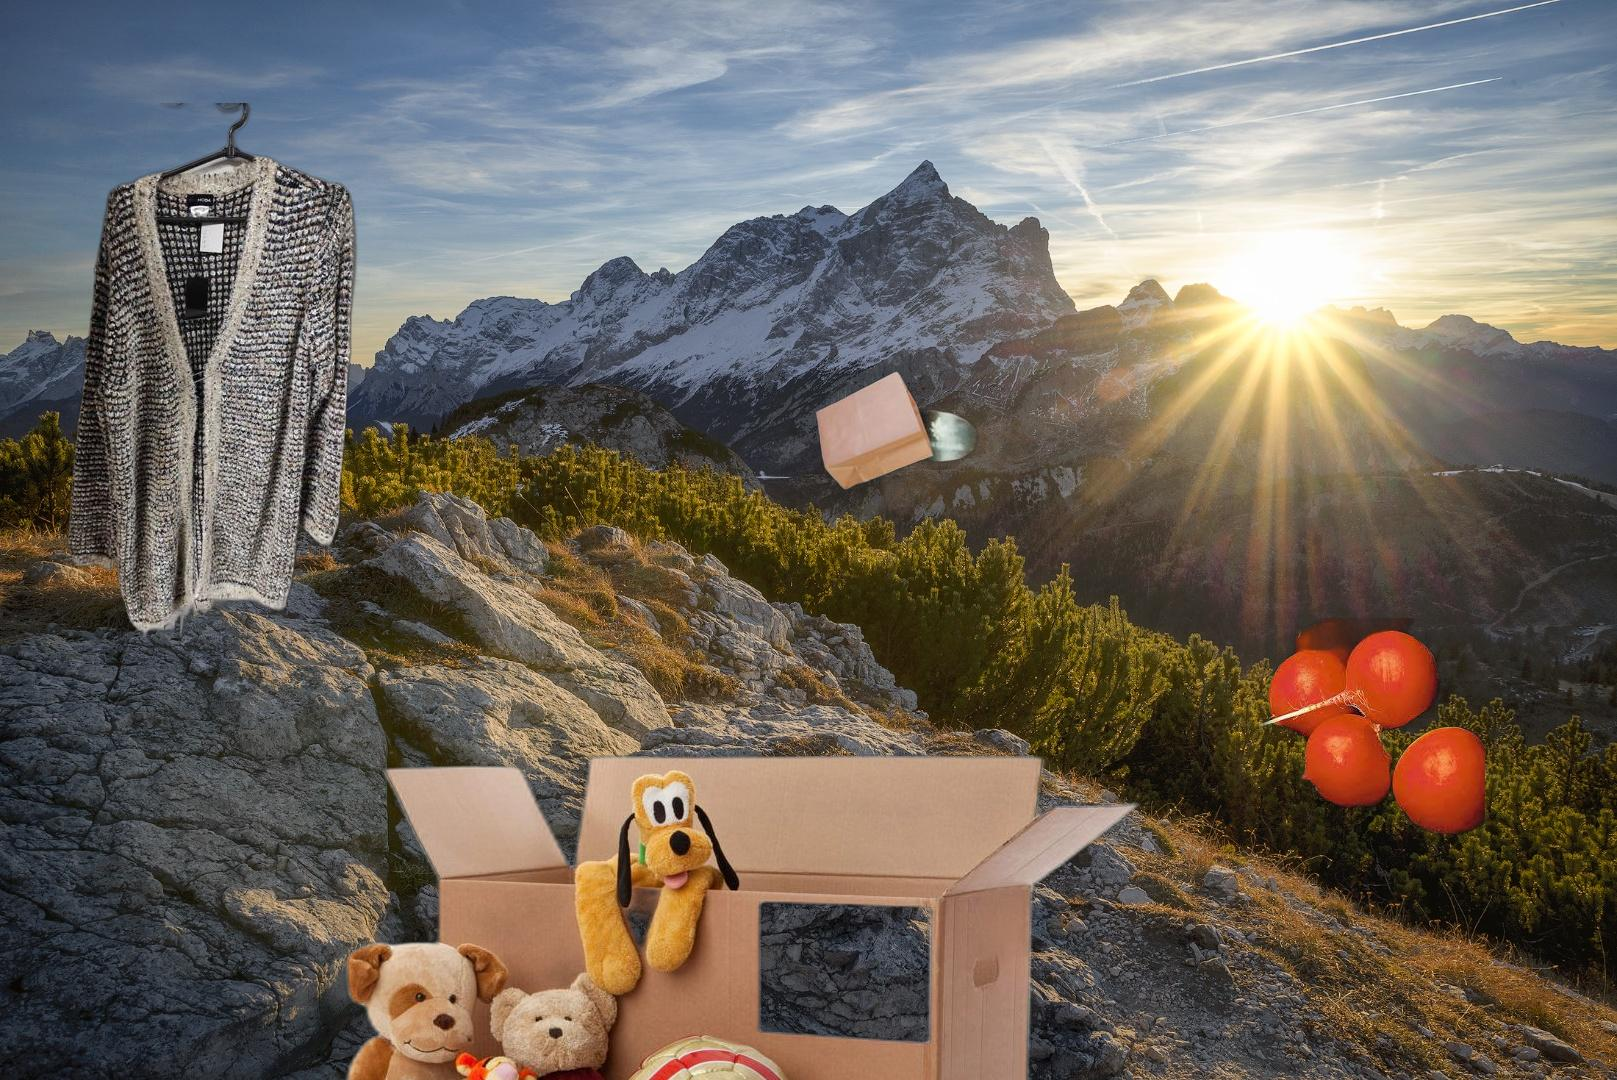biological: (1260, 618, 1484, 843)
clothes: (65, 102, 360, 636)
paper-bag: (813, 363, 982, 491)
trashbox-cardboard: (276, 750, 1151, 1080)
